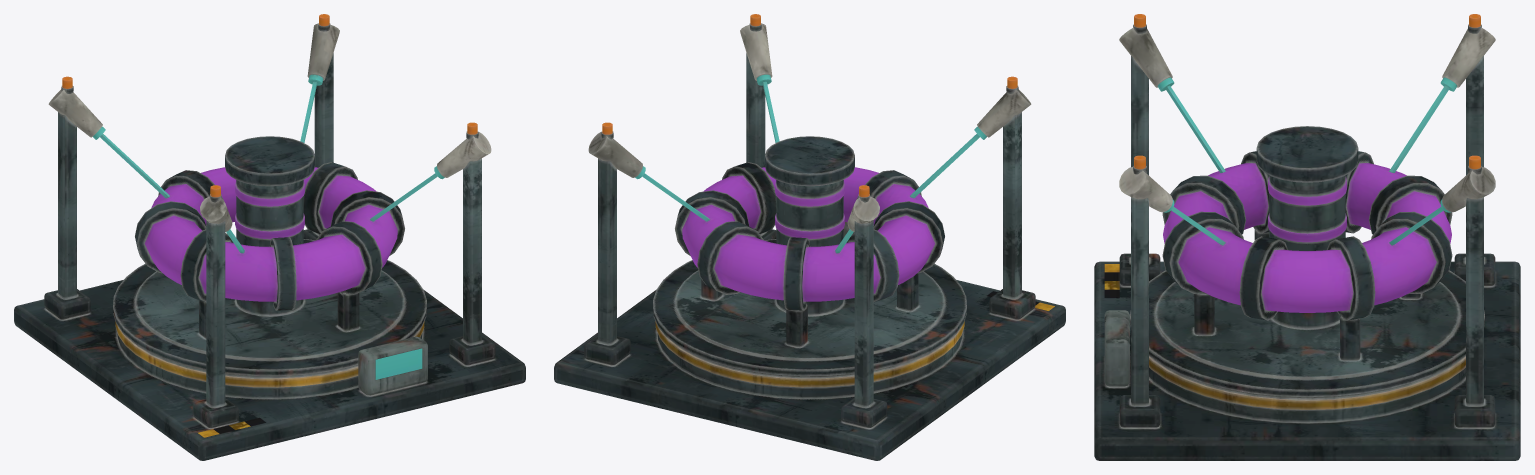
File: fusion_reactor.glb
The picture shows the model from 3 angles, left to right: view 1: azimuth 30°, elevation 25°; view 2: azimuth 150°, elevation 25°; view 3: azimuth 270°, elevation 25°; orthographic projection. The views are drawn at different scales.
Visible parts, largest first — view 1: te_fusion_reactor; view 2: te_fusion_reactor; view 3: te_fusion_reactor.
Part boxes in pixels (bbox=[...]): te_fusion_reactor: bbox=[14, 14, 525, 460]; te_fusion_reactor: bbox=[554, 14, 1065, 460]; te_fusion_reactor: bbox=[1094, 14, 1520, 460].
Bounding box in the file's own units: 0.84 × 0.6212 × 0.84.
1 material, 1 textured.
